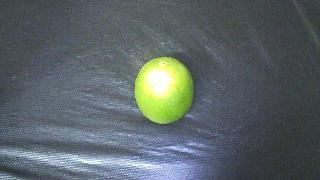LOCAL: (135, 57, 194, 124)
